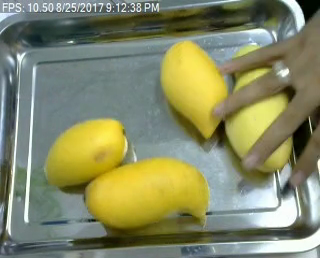Mango: (84, 154, 211, 232), (224, 43, 295, 173), (40, 118, 129, 189), (161, 42, 226, 134)
